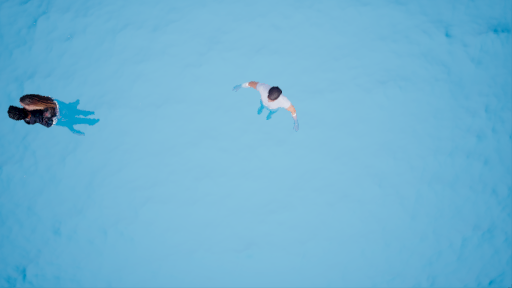person: (4, 89, 105, 138), (220, 77, 306, 132)
